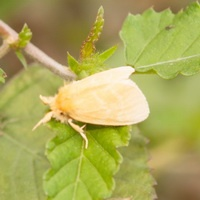insect: (33, 66, 149, 147)
